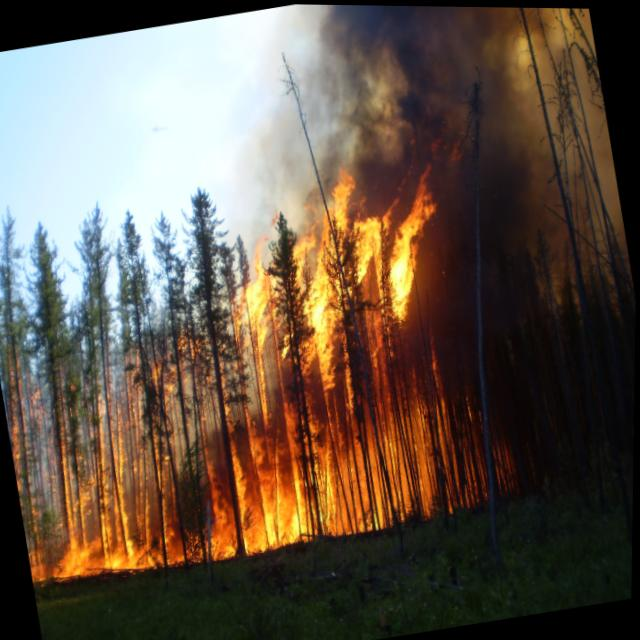Fire: (137, 141, 482, 476), (21, 417, 530, 594)
